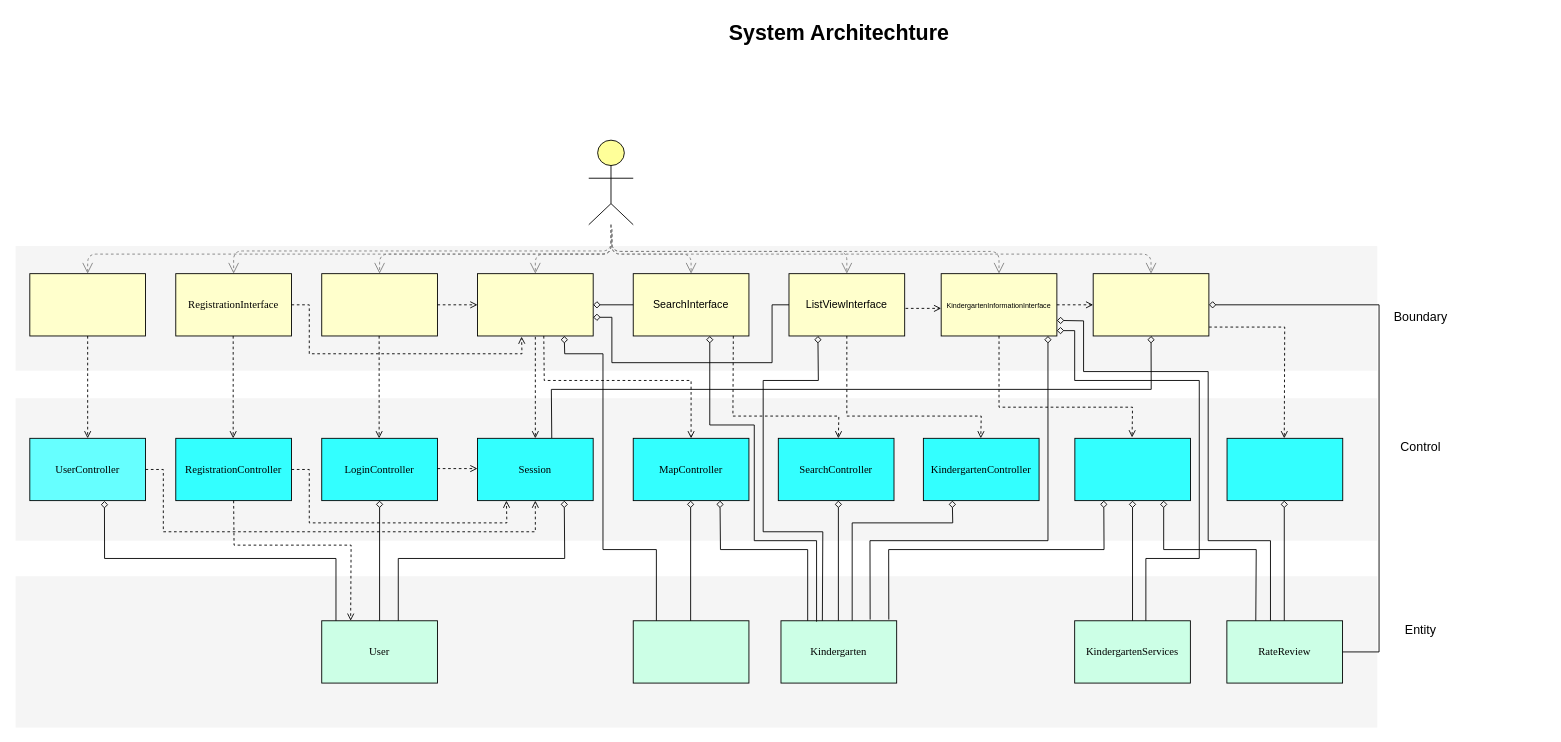
The diagram is 1561 pixels wide and 742 high, and some of its shapes have lost their labels. Each missing label, with the box of its shape:
InfromationController: (1074, 437, 1191, 501)
LoginInterface: (321, 273, 437, 336)
MapInterface: (477, 273, 593, 336)
Marker: (632, 620, 749, 683)
RateReviewController: (1226, 437, 1343, 501)
RateReviewInterface: (1092, 273, 1209, 336)
UserProfileInterface: (29, 273, 146, 336)
